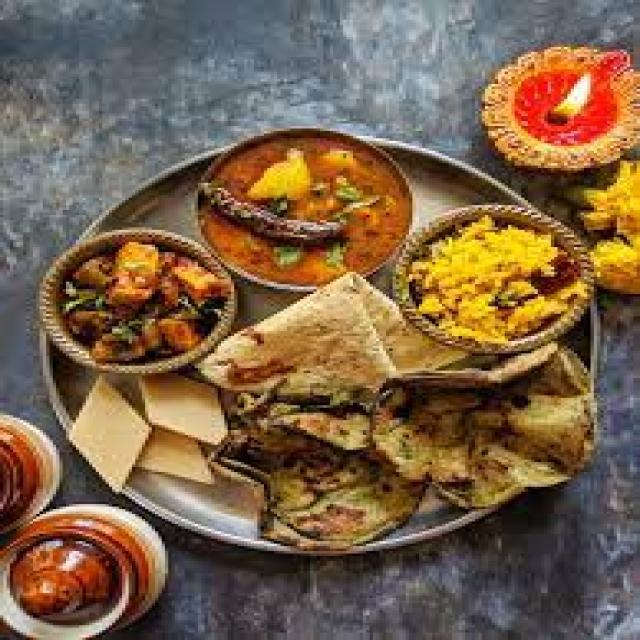dal: (250, 456, 422, 556)
papad: (202, 274, 414, 401)
rice: (398, 205, 586, 350)
sweet: (478, 40, 639, 171), (3, 523, 164, 625), (0, 421, 56, 526)
veg-fry: (193, 125, 416, 291), (403, 198, 591, 357), (44, 234, 234, 375), (247, 453, 421, 556)
